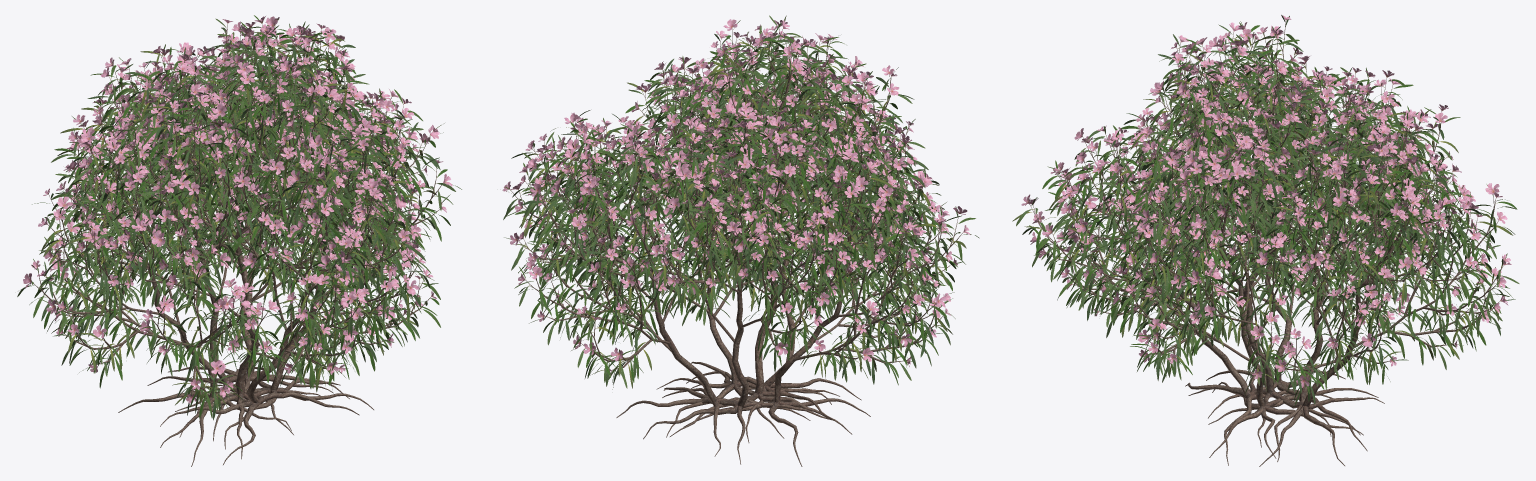
File: MESH_BS09_NeriumOleander_M_LOD0.fbx
3 views of the same model, side by side, from view 1: azimuth 30°, elevation 25°; view 2: azimuth 150°, elevation 25°; view 3: azimuth 270°, elevation 25° (orthographic). The views are drawn at different scales.
Parts seen in each view (by area): view 1: MI_LOD0_001, MI_LOD0_002, MI_LOD0; view 2: MI_LOD0_001, MI_LOD0_002, MI_LOD0; view 3: MI_LOD0_001, MI_LOD0_002, MI_LOD0.
Boxes of the visible parts, left/top/right/bottom form: MI_LOD0_001: left=17, top=15, right=461, bottom=420; MI_LOD0_002: left=23, top=16, right=452, bottom=403; MI_LOD0: left=33, top=23, right=441, bottom=466; MI_LOD0_001: left=503, top=15, right=979, bottom=389; MI_LOD0_002: left=502, top=19, right=970, bottom=375; MI_LOD0: left=510, top=27, right=963, bottom=466; MI_LOD0_001: left=1012, top=15, right=1519, bottom=406; MI_LOD0_002: left=1021, top=15, right=1511, bottom=387; MI_LOD0: left=1029, top=20, right=1504, bottom=466.
Bounding box in the file's own units: 299 × 268 × 329.
